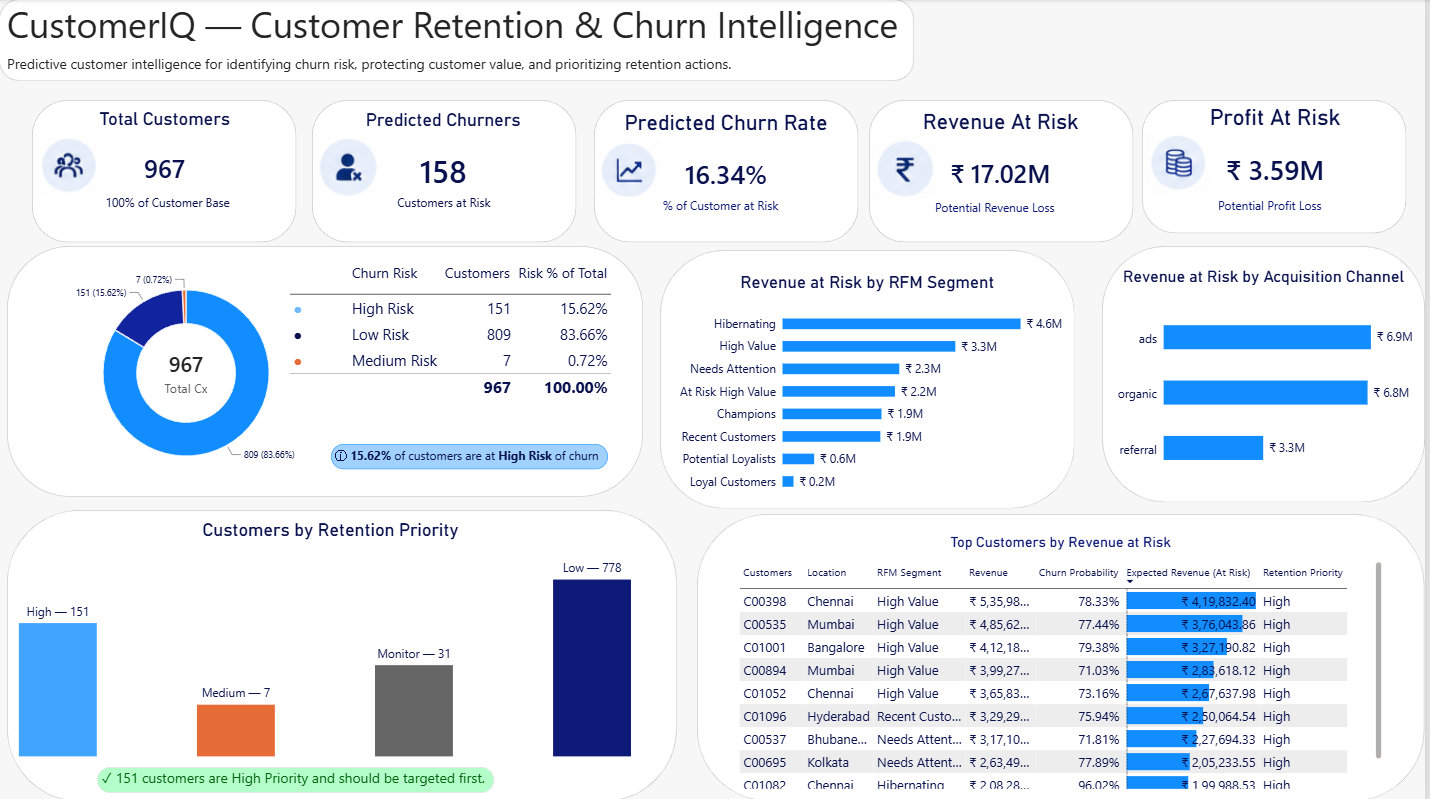

This screenshot's page, from the dashboard's own definition file:
{"tool":"powerbi","page":{"name":"Executive Overview","canvas":[1920,1080],"ordinal":0},"visuals":[{"type":"shape","box":[0,0,1232.2,110.4],"z":0},{"type":"shape","box":[940.2,693.8,979.8,386.4],"z":1000},{"type":"shape","box":[10.6,687.7,902.2,392.5],"z":2000},{"type":"shape","box":[1484.9,333.2,435.1,345.4],"z":3000},{"type":"shape","box":[890,337.7,558.4,348.4],"z":4000},{"type":"shape","box":[10.6,333.2,856.5,337.7],"z":5000},{"type":"shape","box":[1539.7,135.4,356,179.5],"z":6000},{"type":"shape","box":[1171.5,135.4,356,191.7],"z":7000},{"type":"shape","box":[801.8,135.4,356,191.7],"z":8000},{"type":"shape","box":[421.4,135.4,356,191.7],"z":9000},{"type":"shape","box":[44.1,135.4,356,191.7],"z":10000},{"type":"textbox","box":[10.6,0,1208,63.9],"z":11000},{"type":"textbox","box":[10.6,74.5,1000.2,36.6],"z":12000},{"type":"cardVisual","title":"Total Customers","fields":{"Data":["Customer Scoring.Total Customers"]},"box":[44.1,147.6,357.5,115.6],"z":13000},{"type":"cardVisual","title":"Predicted Churners","fields":{"Data":["Customer Scoring.Predicted Churners"]},"box":[427.5,149.1,342.3,117.1],"z":14000},{"type":"cardVisual","title":"Predicted Churn Rate","fields":{"Data":["Customer Scoring.Predicted Churn Rate"]},"box":[799.9,149.5,358.2,121.2],"z":15000},{"type":"cardVisual","title":"Revenue At Risk","fields":{"Data":["Customer Scoring.Revenue at Risk"]},"box":[1170.2,148.1,356.9,122.5],"z":16000},{"type":"cardVisual","title":"Profit At Risk","fields":{"Data":["Customer Scoring.Profit at Risk"]},"box":[1539.2,141.4,358.2,125.2],"z":17000},{"type":"donutChart","fields":{"Category":["Customer Scoring.churn_risk"],"Y":["Customer Scoring.Total Customers"]},"box":[10.6,337.7,482.3,333.2],"z":18000},{"type":"clusteredColumnChart","title":"Customers by Retention Priority","fields":{"Category":["Customer Scoring.retention_priority"],"Y":["Customer Scoring.Total Customers"]},"box":[10.8,686.8,871.3,350.1],"z":19000},{"type":"clusteredBarChart","title":"Revenue at Risk by RFM Segment","fields":{"Category":["Customer Scoring.rfm_segment"],"Y":["Customer Scoring.Revenue at Risk"]},"box":[890,354.5,558.4,331.7],"z":20000},{"type":"clusteredBarChart","title":"Revenue at Risk by Acquisition Channel","fields":{"Category":["Customer Scoring.acquisition_channel"],"Y":["Customer Scoring.Revenue at Risk"]},"box":[1484.9,346.9,435.1,324.1],"z":21000},{"type":"tableEx","title":"Top Customers by Revenue at Risk","fields":{"Values":["Customer Scoring.customer_id","Customer Scoring.location","Customer Scoring.rfm_segment","Customer Scoring.total_revenue","Customer Scoring.Churn Probability Display","Customer Scoring.expected_revenue_at_risk","Customer Scoring.retention_priority"]},"box":[980.3,705.6,898.2,374.4],"z":22000},{"type":"tableEx","fields":{"Values":["Customer Scoring.Risk Dot","Customer Scoring.churn_risk","Customer Scoring.Total Customers","Customer Scoring.Risk % of Total"]},"box":[374.4,338,474,228.9],"z":23000},{"type":"image","box":[56.3,187.1,76.1,76.1],"z":24000},{"type":"textbox","box":[132.4,263.2,190.2,45.6],"z":25000},{"type":"textbox","box":[520.3,263.2,158.2,48.7],"z":26000},{"type":"image","box":[427.5,185.6,83.7,80.6],"z":27000},{"type":"image","box":[806.3,185.6,85.2,85.2],"z":28000},{"type":"image","box":[1170,184.1,97.4,85.2],"z":29000},{"type":"image","box":[1539.7,179.5,98.9,83.7],"z":30000},{"type":"textbox","box":[447.1,599.3,373,33.7],"z":31000},{"type":"textbox","box":[132,1034.2,534.6,35],"z":32000},{"type":"textbox","box":[894.2,266.6,171,49.8],"z":32001},{"type":"textbox","box":[1260.4,269.3,177.8,36.4],"z":32002},{"type":"textbox","box":[1641.5,266.6,152.2,36.4],"z":32003}]}

Visuals, with their boxes in screenshot pixels (x1, y1, x2, y2), scaled from the page's 1920x1080 canvas onto the 1430x799 screenshot:
shape: l=0, t=0, r=918, b=82
shape: l=700, t=513, r=1429, b=798
shape: l=8, t=509, r=680, b=798
shape: l=1106, t=247, r=1429, b=502
shape: l=663, t=250, r=1079, b=508
shape: l=8, t=247, r=646, b=496
shape: l=1147, t=100, r=1412, b=233
shape: l=873, t=100, r=1138, b=242
shape: l=597, t=100, r=862, b=242
shape: l=314, t=100, r=579, b=242
shape: l=33, t=100, r=298, b=242
textbox: l=8, t=0, r=908, b=47
textbox: l=8, t=55, r=753, b=82
"Total Customers" cardVisual: l=33, t=109, r=299, b=195
"Predicted Churners" cardVisual: l=318, t=110, r=573, b=197
"Predicted Churn Rate" cardVisual: l=596, t=111, r=863, b=200
"Revenue At Risk" cardVisual: l=872, t=110, r=1137, b=200
"Profit At Risk" cardVisual: l=1146, t=105, r=1413, b=197
donutChart - Customer Scoring.churn_risk x Customer Scoring.Total Customers: l=8, t=250, r=367, b=496
"Customers by Retention Priority" clusteredColumnChart: l=8, t=508, r=657, b=767
"Revenue at Risk by RFM Segment" clusteredBarChart: l=663, t=262, r=1079, b=508
"Revenue at Risk by Acquisition Channel" clusteredBarChart: l=1106, t=257, r=1429, b=496
"Top Customers by Revenue at Risk" tableEx: l=730, t=522, r=1399, b=798
tableEx - Customer Scoring.Risk Dot x Customer Scoring.churn_risk: l=279, t=250, r=632, b=419
image: l=42, t=138, r=99, b=195
textbox: l=99, t=195, r=240, b=228
textbox: l=388, t=195, r=505, b=231
image: l=318, t=137, r=381, b=197
image: l=601, t=137, r=664, b=200
image: l=871, t=136, r=944, b=199
image: l=1147, t=133, r=1220, b=195
textbox: l=333, t=443, r=611, b=468
textbox: l=98, t=765, r=496, b=791
textbox: l=666, t=197, r=793, b=234
textbox: l=939, t=199, r=1071, b=226
textbox: l=1223, t=197, r=1336, b=224
